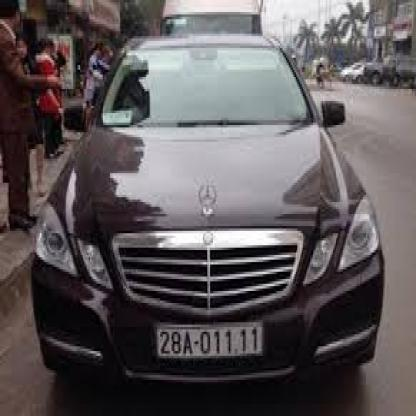biensoxe: (154, 322, 263, 360)
